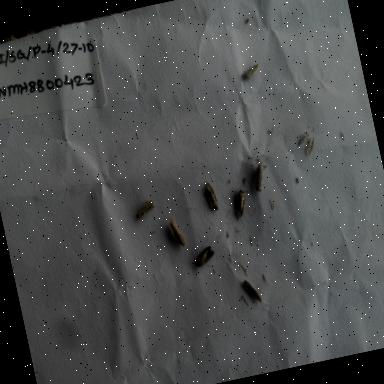pbw: (235, 270, 270, 312), (196, 178, 226, 217), (228, 186, 254, 227), (166, 214, 190, 254), (190, 242, 221, 271), (248, 161, 271, 200), (132, 196, 160, 223), (239, 60, 264, 83)
